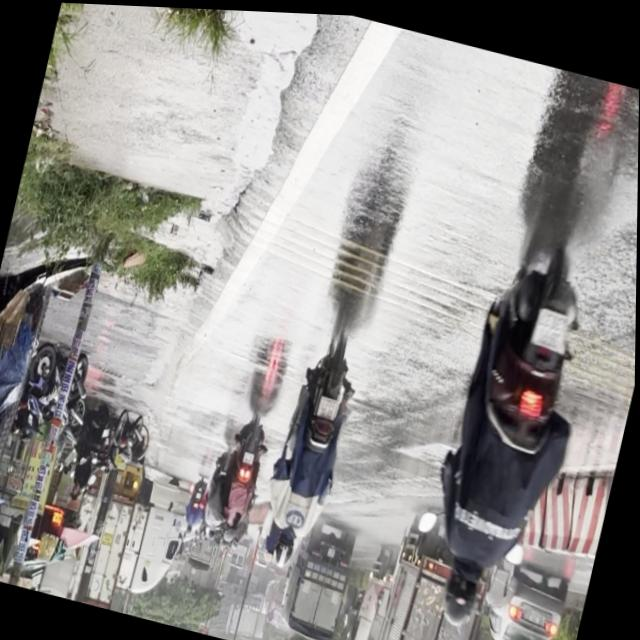helmet: (438, 557, 488, 628), (273, 529, 299, 569)
licenseplate: (406, 194, 619, 640), (253, 319, 372, 580)
nohelmet: (532, 303, 572, 349), (318, 393, 340, 418)
